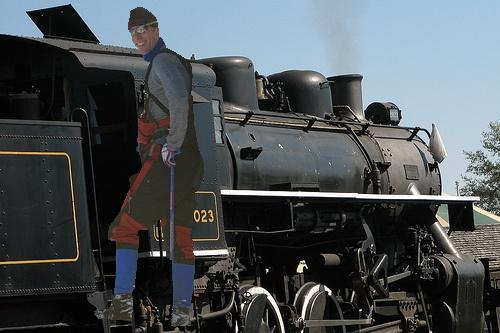tampered: (95, 8, 204, 326)
